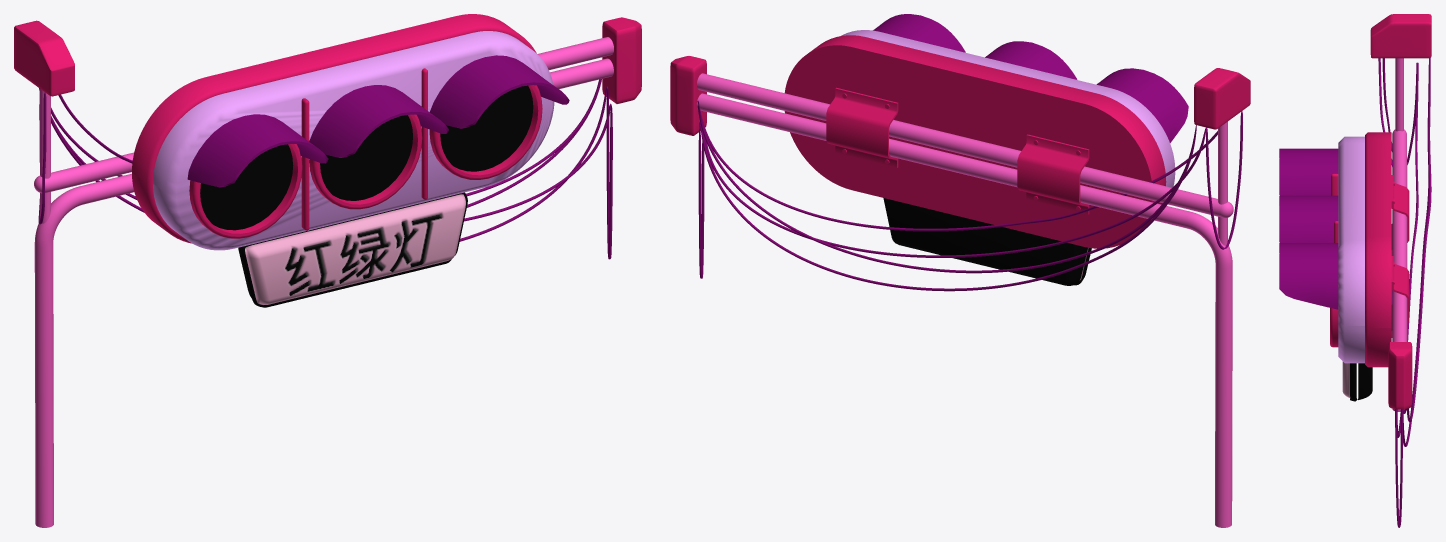
File: Street_Light.fbx
3 views of the same model, side by side, from view 1: azimuth 30°, elevation 25°; view 2: azimuth 150°, elevation 25°; view 3: azimuth 270°, elevation 25° (orthographic). The views are drawn at different scales.
Parts seen in each view (by area): view 1: Body, Lights, Plane, Hanger, Lofts, Cubes, Wires, Loft, Separator, Separator_2; view 2: Body, Hanger, Wires, Plane, Cubes, Lofts, Loft; view 3: Body, Lofts, Hanger, Cubes, Wires, Loft, Plane, Lights.
Boxes of the visible parts, <box> form: Body: <box>132,14,554,250</box>; Lights: <box>189,85,542,238</box>; Plane: <box>238,192,467,307</box>; Hanger: <box>34,37,613,527</box>; Lofts: <box>187,55,569,187</box>; Cubes: <box>14,17,641,103</box>; Wires: <box>38,79,612,259</box>; Loft: <box>309,85,448,157</box>; Separator: <box>301,98,309,230</box>; Separator_2: <box>421,68,427,199</box>; Body: <box>784,30,1175,248</box>; Hanger: <box>696,73,1233,527</box>; Wires: <box>697,100,1242,291</box>; Plane: <box>883,198,1091,285</box>; Cubes: <box>670,56,1250,135</box>; Lofts: <box>873,14,1188,143</box>; Loft: <box>985,41,1077,79</box>; Body: <box>1338,132,1391,367</box>; Lofts: <box>1279,148,1338,309</box>; Hanger: <box>1391,58,1409,411</box>; Cubes: <box>1370,14,1431,409</box>; Wires: <box>1378,58,1431,527</box>; Loft: <box>1279,195,1338,242</box>; Plane: <box>1342,361,1372,401</box>; Lights: <box>1330,308,1338,347</box>.
Bounding box in the file's own units: 529 × 406 × 143.
